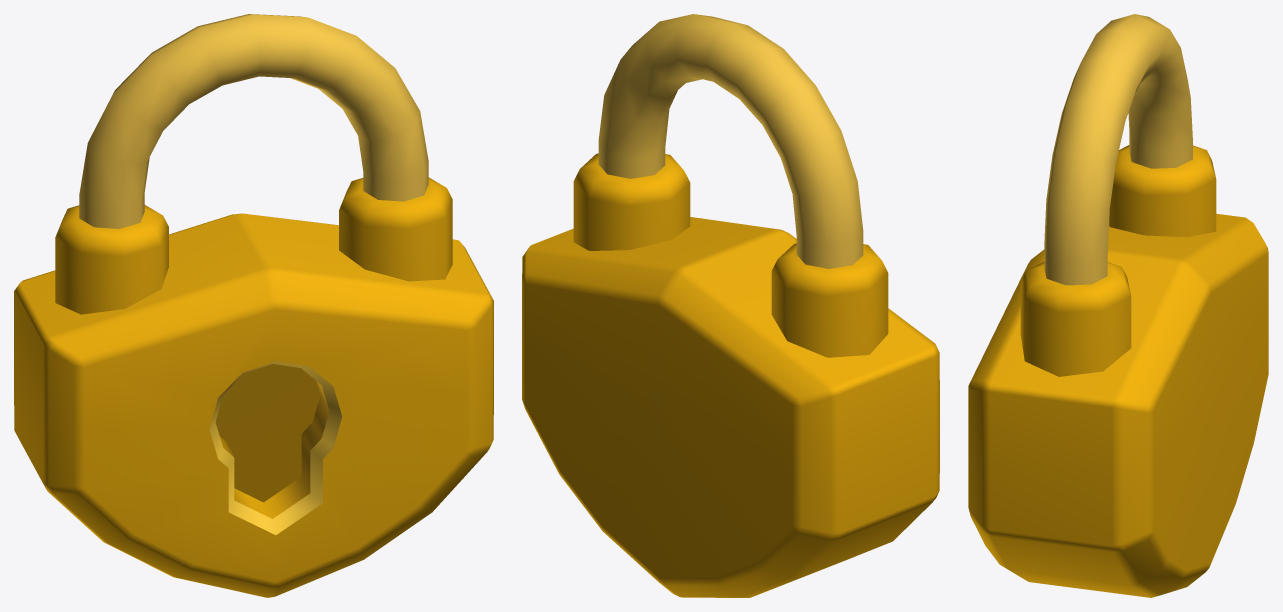
The picture shows the model from 3 angles, left to right: view 1: azimuth 30°, elevation 25°; view 2: azimuth 150°, elevation 25°; view 3: azimuth 270°, elevation 25°; orthographic projection.
Visible parts, largest first — view 1: model_1.014; view 2: model_1.014; view 3: model_1.014.
Boxes of the visible parts, x1=… form: model_1.014: x1=14, y1=14, x2=493, y2=597; model_1.014: x1=522, y1=14, x2=939, y2=597; model_1.014: x1=968, y1=14, x2=1268, y2=597.
Bounding box in the file's own units: 3.5 × 4.47 × 2.21.
